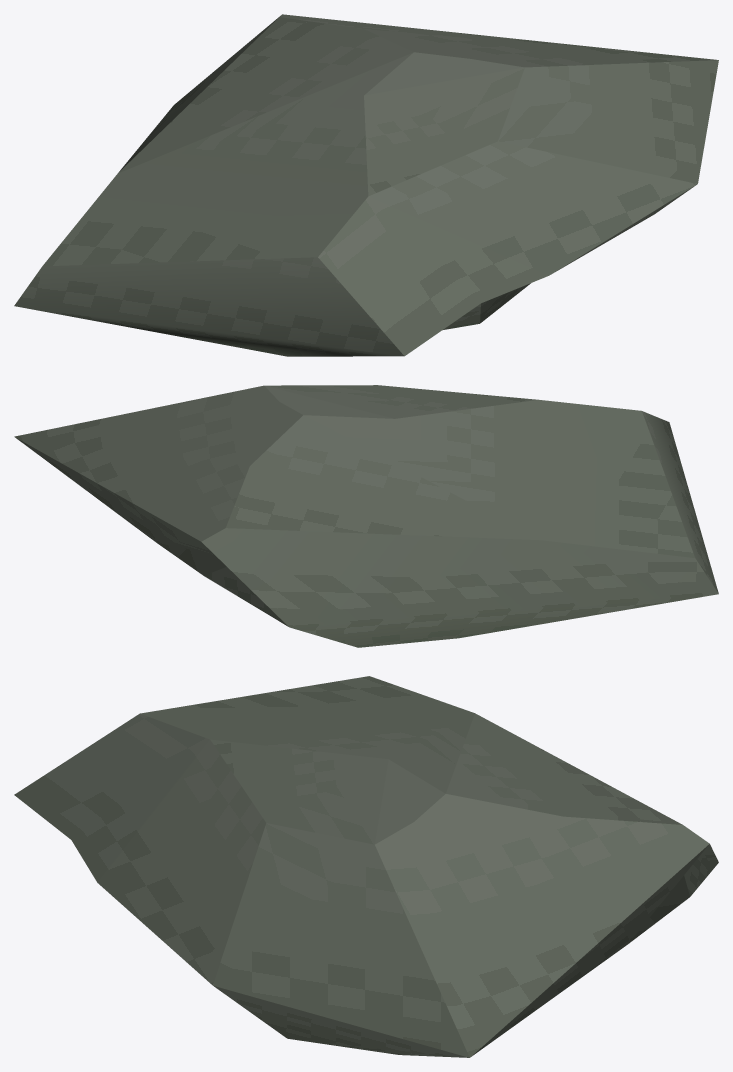
File: Mesh_Deco_Pierre_3.glb
3 renders of one model, top to bottom at view 1: azimuth 30°, elevation 25°; view 2: azimuth 150°, elevation 25°; view 3: azimuth 270°, elevation 25°, orthographic. The views are drawn at different scales.
Visible parts, largest first — view 1: Mesh_Deco_Pierre_3; view 2: Mesh_Deco_Pierre_3; view 3: Mesh_Deco_Pierre_3.
Boxes of the visible parts, left/top/right/bottom form: Mesh_Deco_Pierre_3: left=14, top=14, right=718, bottom=356; Mesh_Deco_Pierre_3: left=14, top=385, right=718, bottom=647; Mesh_Deco_Pierre_3: left=14, top=676, right=718, bottom=1057.
Bounding box in the file's own units: 0.6878 × 0.1297 × 0.5238.
Materials: 1 (1 with a texture image).
